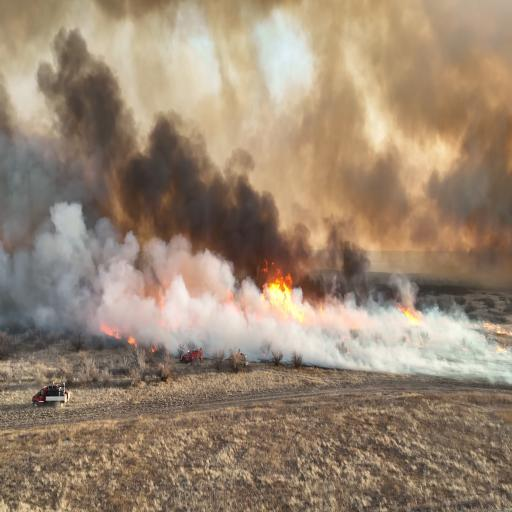fire: (260, 262, 300, 322)
smoke: (7, 146, 120, 332), (133, 118, 250, 272), (38, 32, 129, 200), (433, 84, 512, 226), (146, 228, 238, 347), (358, 290, 481, 376)
